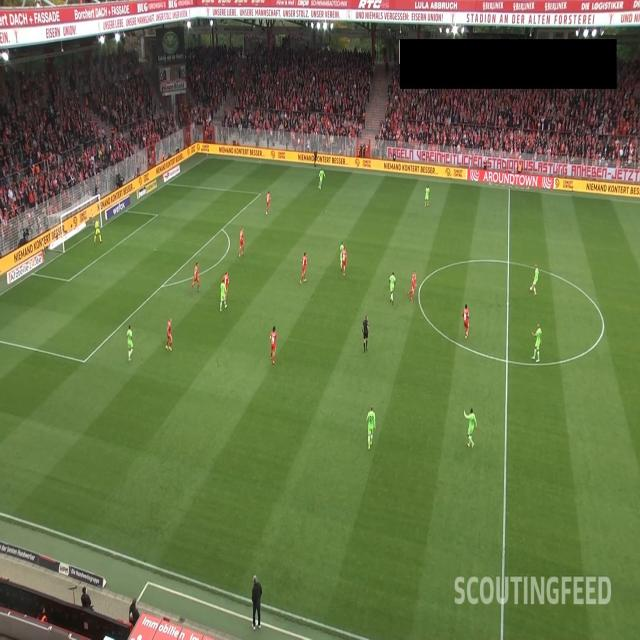ball: (529, 285, 533, 292)
